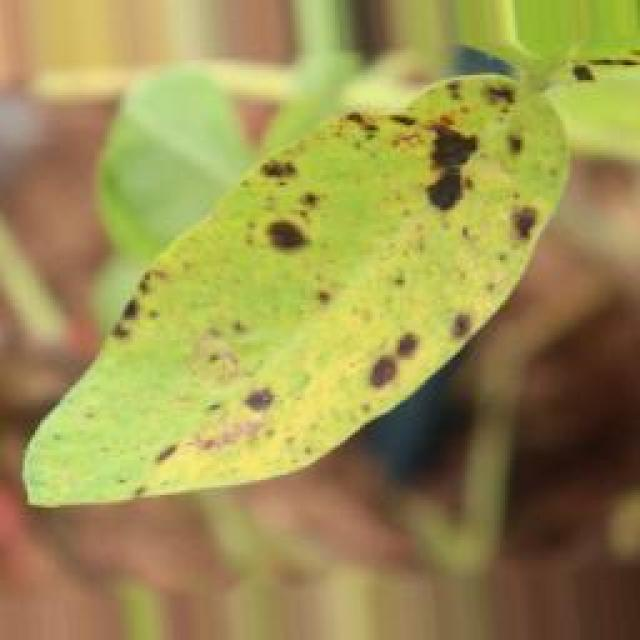Yellowish: (68, 85, 553, 506)
